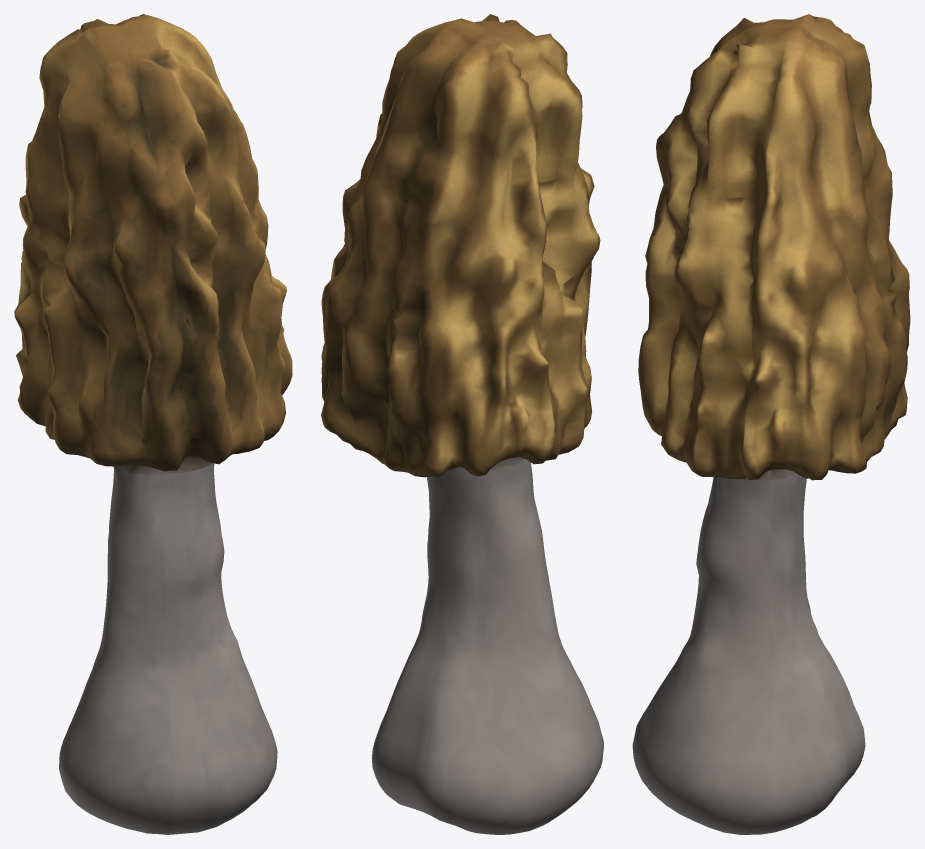
The model's file is SENE_13.fbx.
3 views of the same model, side by side, from view 1: azimuth 30°, elevation 25°; view 2: azimuth 150°, elevation 25°; view 3: azimuth 270°, elevation 25° (orthographic). The views are drawn at different scales.
Parts seen in each view (by area): view 1: SENE_13; view 2: SENE_13; view 3: SENE_13.
Part boxes in pixels (x1,y1,x2,y2): SENE_13: [14, 14, 292, 834]; SENE_13: [321, 14, 603, 834]; SENE_13: [632, 14, 910, 834].
Bounding box in the file's own units: 37.13 × 115 × 37.32.
1 material, 1 textured.
